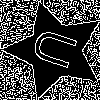U: (30, 25, 88, 75)
